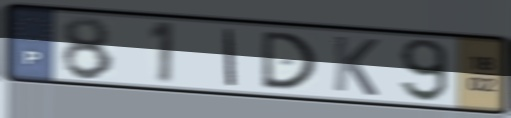1: (147, 21, 175, 87)
8: (58, 14, 117, 81)
9: (395, 37, 451, 104)
D: (258, 29, 320, 91)
I: (222, 26, 239, 89)
K: (330, 33, 381, 98)
